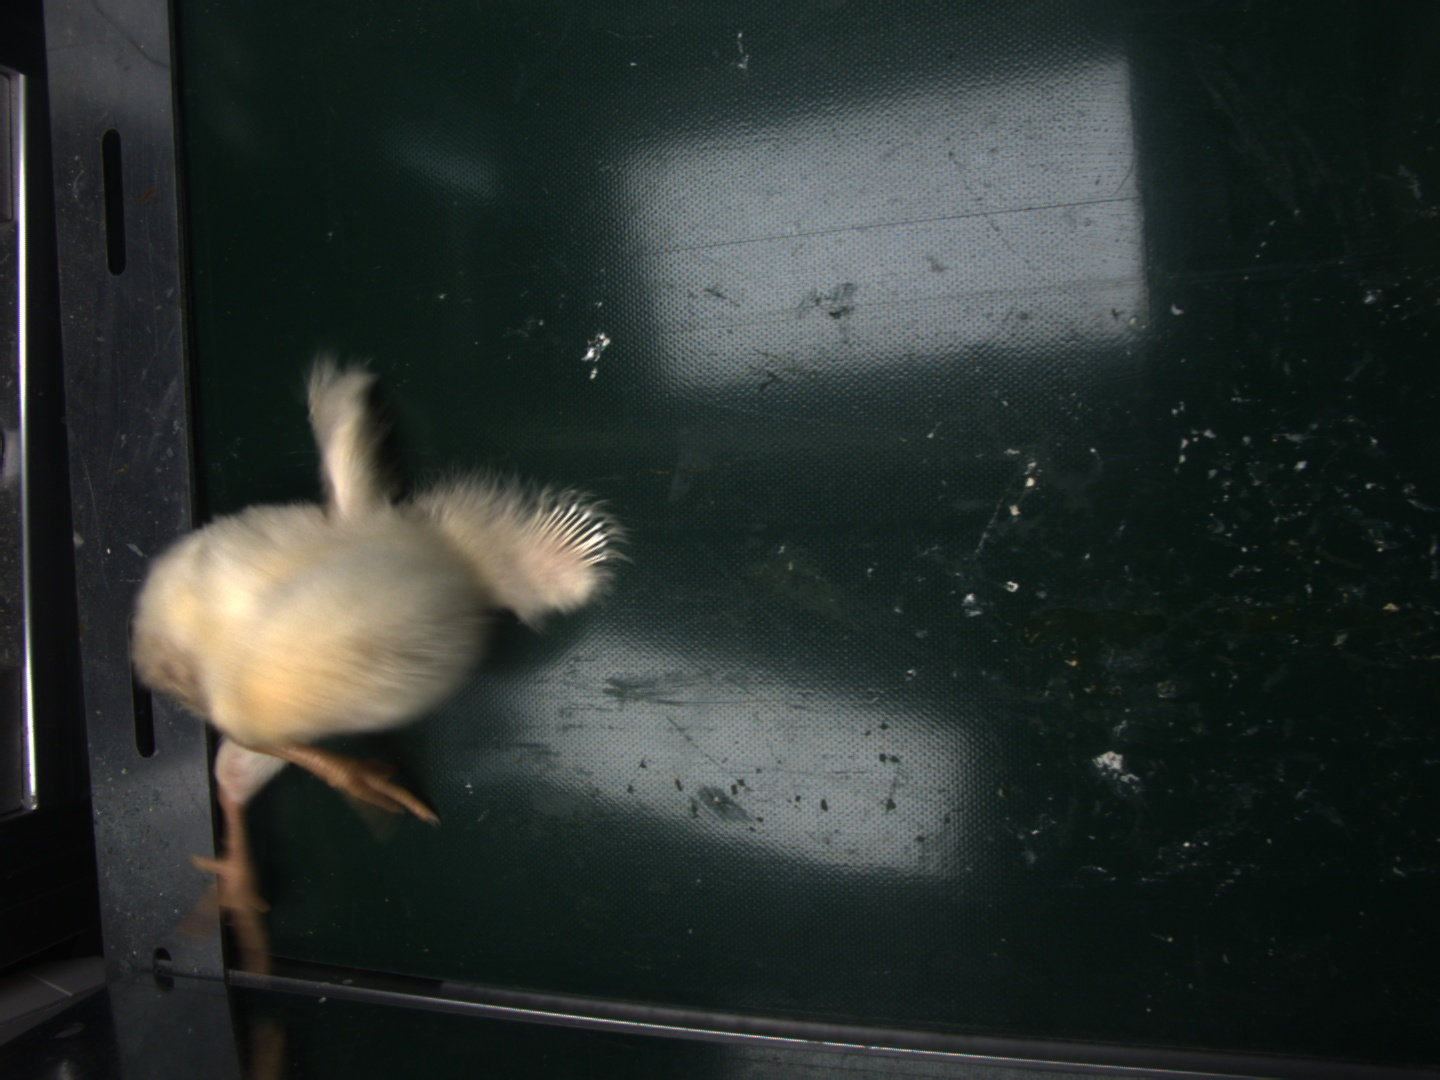male: (532, 504, 609, 569)
